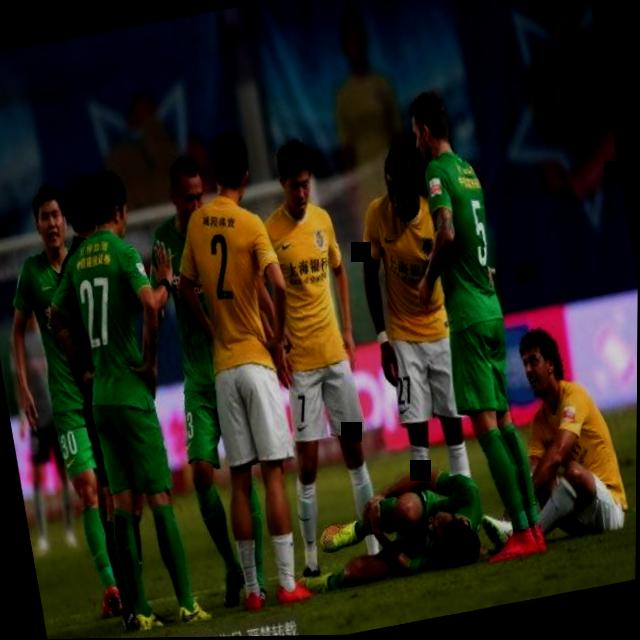Fall-Detected: (293, 449, 506, 605)
